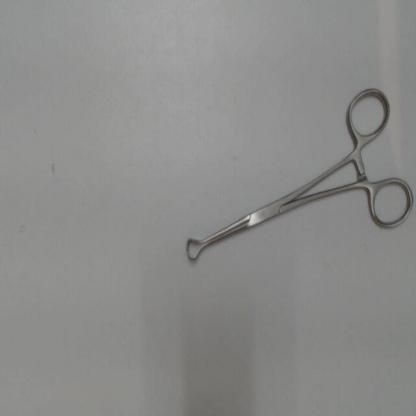Babcock Tissue Forceps: (183, 82, 415, 266)
